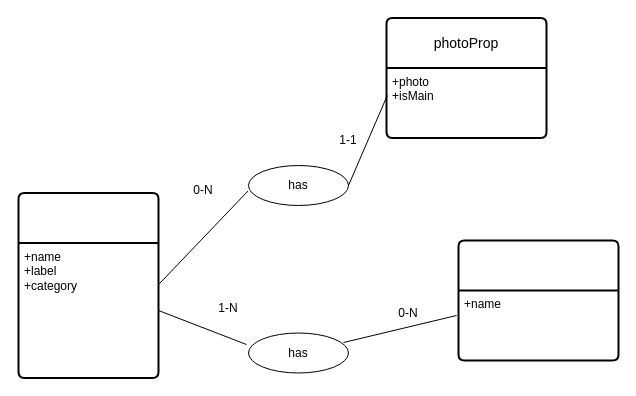
Some shapes in this 636 by 396 pixel diagram are drawn without their labels. The box of each missing label's shape, as (x1, y1, x2, y2) in pixels:
category: (457, 239, 619, 361)
Prop: (17, 192, 159, 378)
